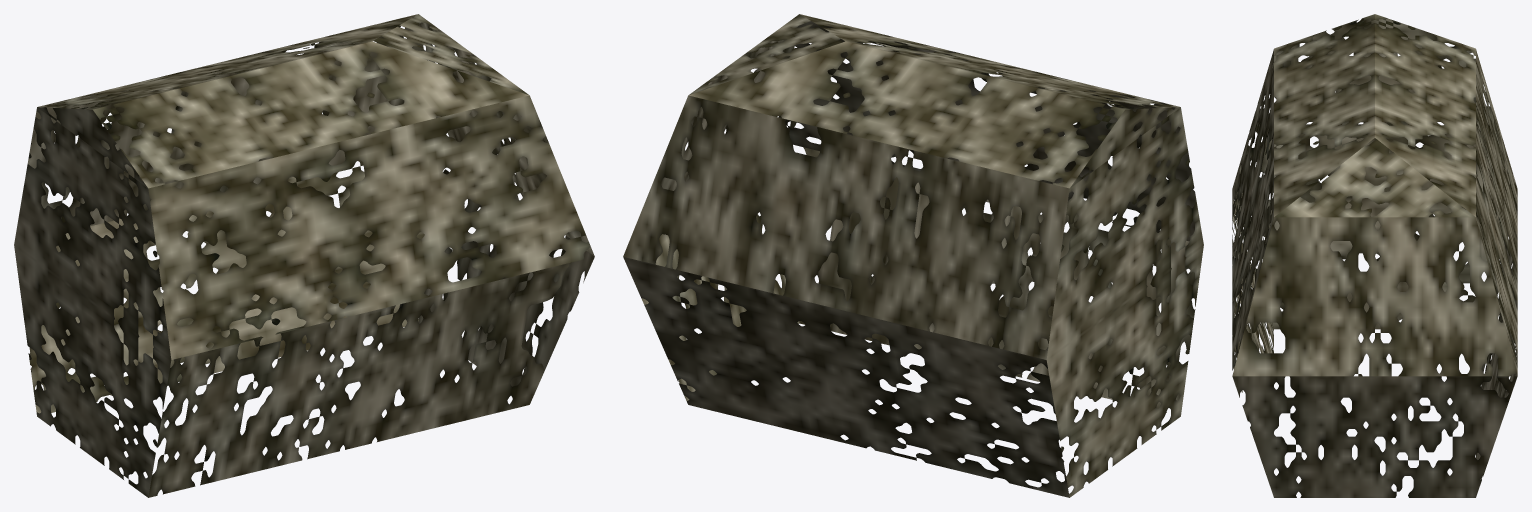
Rendered from bush_long_half_open_right_dead.fbx.
3 views of the same model, side by side, from view 1: azimuth 30°, elevation 25°; view 2: azimuth 150°, elevation 25°; view 3: azimuth 270°, elevation 25° (orthographic). The views are drawn at different scales.
Parts seen in each view (by area): view 1: bush_long_half_open_right_dead; view 2: bush_long_half_open_right_dead; view 3: bush_long_half_open_right_dead.
Part boxes in pixels (box(x1,y1,x2,y2)): bush_long_half_open_right_dead: box(14, 14, 594, 497); bush_long_half_open_right_dead: box(623, 14, 1203, 497); bush_long_half_open_right_dead: box(1232, 14, 1517, 497).
Bounding box in the file's own units: 112 × 87.65 × 71.91.
Materials: 1 (1 with a texture image).
